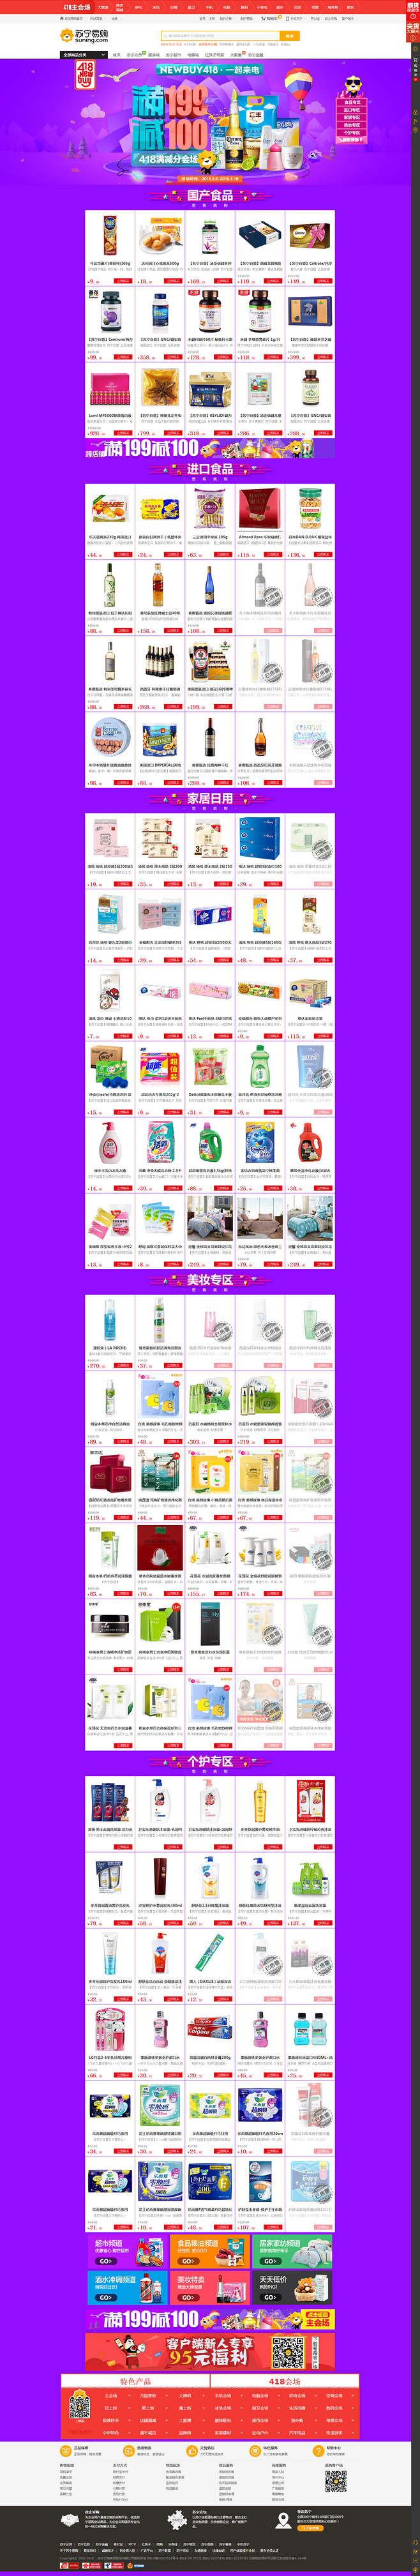floors: (80, 794, 340, 1272), (82, 1273, 338, 1751), (82, 1755, 336, 2233), (80, 462, 340, 790), (80, 189, 341, 460), (84, 2233, 335, 2371)
toutu: (0, 59, 410, 186)
